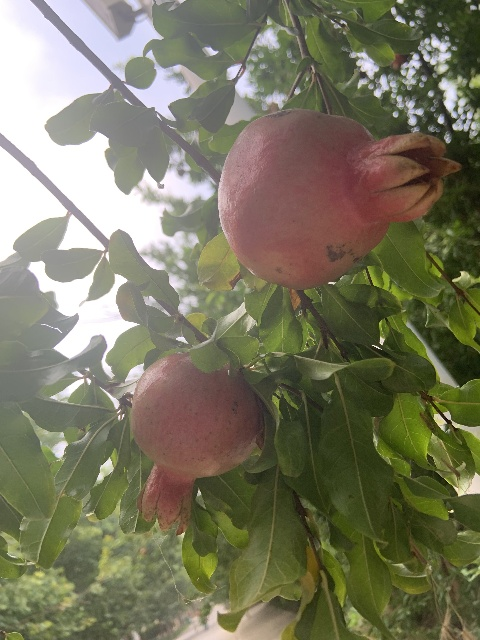ripe: (218, 107, 460, 287), (129, 353, 264, 534)
